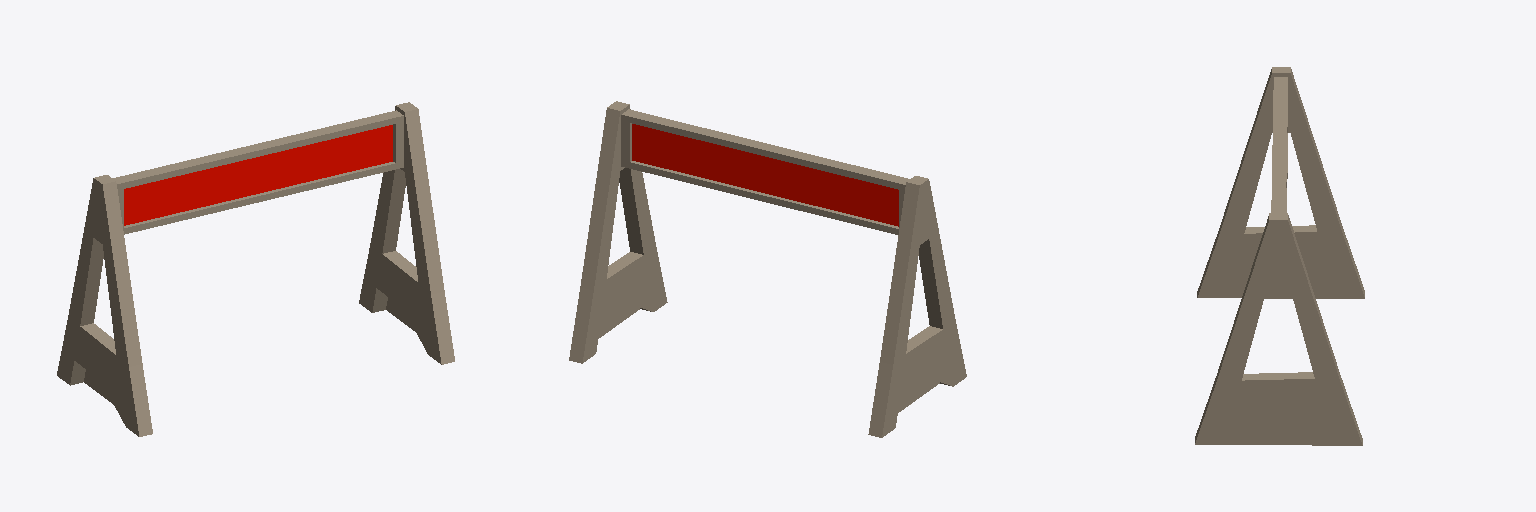
File: block.2.obj
The picture shows the model from 3 angles: view 1: azimuth 30°, elevation 25°; view 2: azimuth 150°, elevation 25°; view 3: azimuth 270°, elevation 25°; orthographic projection.
Visible parts, largest first — view 1: SM_Prop_Barrier_3_SM_Prop_Barrier_01; view 2: SM_Prop_Barrier_3_SM_Prop_Barrier_01; view 3: SM_Prop_Barrier_3_SM_Prop_Barrier_01.
Part boxes in pixels (bbox=[...]): SM_Prop_Barrier_3_SM_Prop_Barrier_01: bbox=[57, 102, 454, 436]; SM_Prop_Barrier_3_SM_Prop_Barrier_01: bbox=[569, 101, 966, 437]; SM_Prop_Barrier_3_SM_Prop_Barrier_01: bbox=[1195, 67, 1364, 445].
Size of the model in its own units: 1.44 by 0.9825 by 0.675.